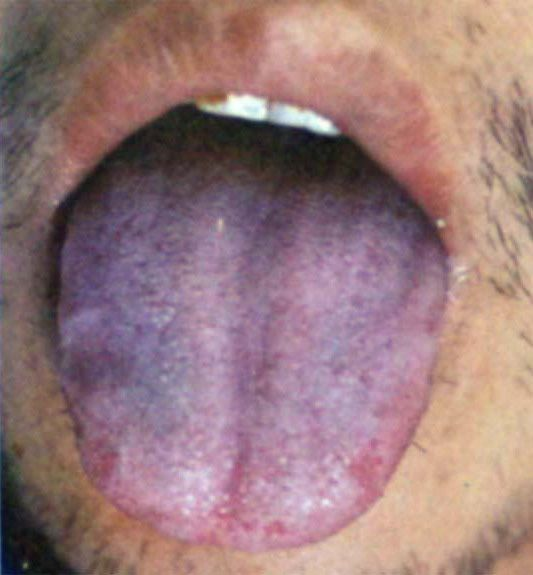baitaishe: (58, 104, 448, 552)
zishe: (58, 104, 448, 552)
